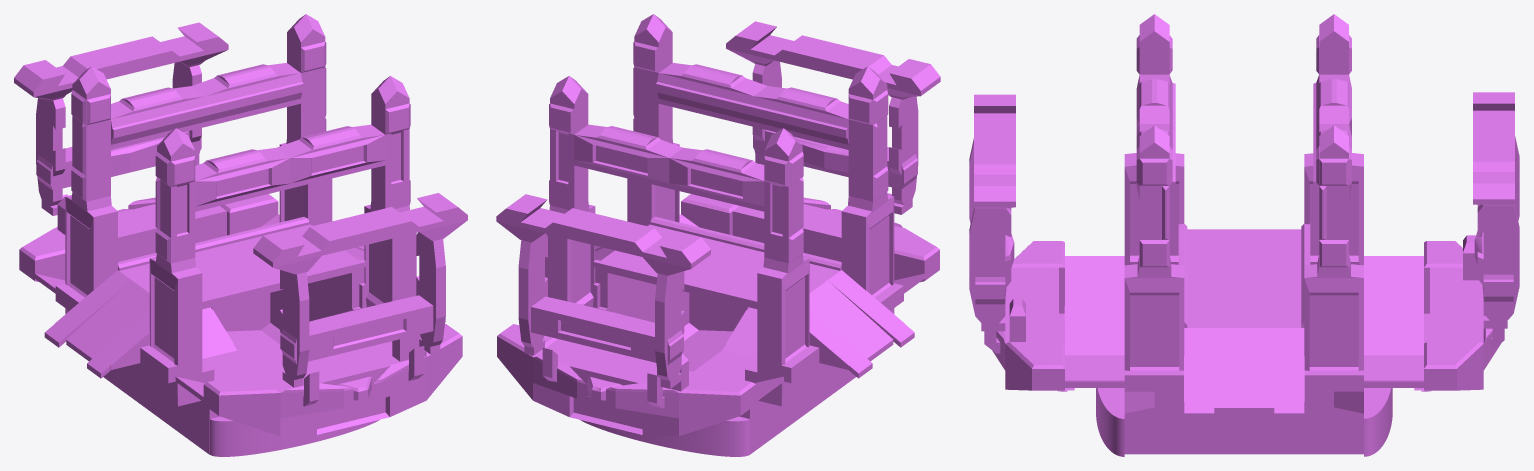
Rendered from qefq.fbx.
3 renders of one model, left to right at view 1: azimuth 30°, elevation 25°; view 2: azimuth 150°, elevation 25°; view 3: azimuth 270°, elevation 25°, orthographic. The views are drawn at different scales.
Parts seen in each view (by area): view 1: Bridge1; view 2: Bridge1; view 3: Bridge1.
Part boxes in pixels (x1,y1,x2,y2): Bridge1: (14,14,467,456); Bridge1: (496,14,940,456); Bridge1: (969,14,1519,456).
Bounding box in the file's own units: 543 × 496 × 724.
